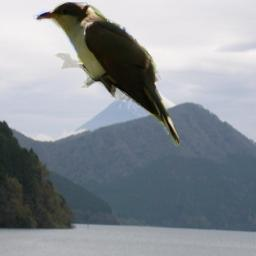Cuckoo: (33, 2, 179, 147)
